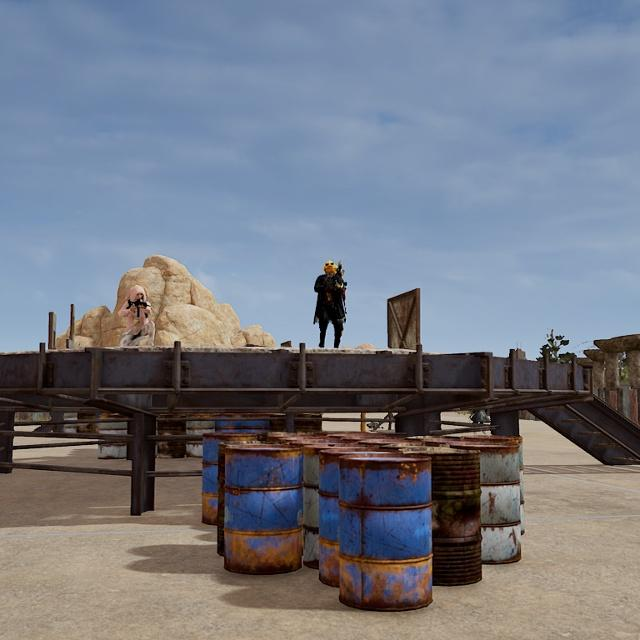head: (130, 286, 146, 305), (323, 260, 339, 278)
people: (312, 259, 348, 348), (119, 286, 158, 346)
